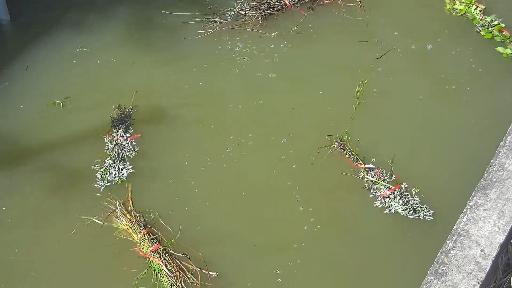leaf: (42, 92, 80, 110)
twig: (326, 81, 455, 224), (71, 190, 238, 288), (142, 0, 360, 35), (92, 90, 151, 184), (447, 0, 512, 65)
